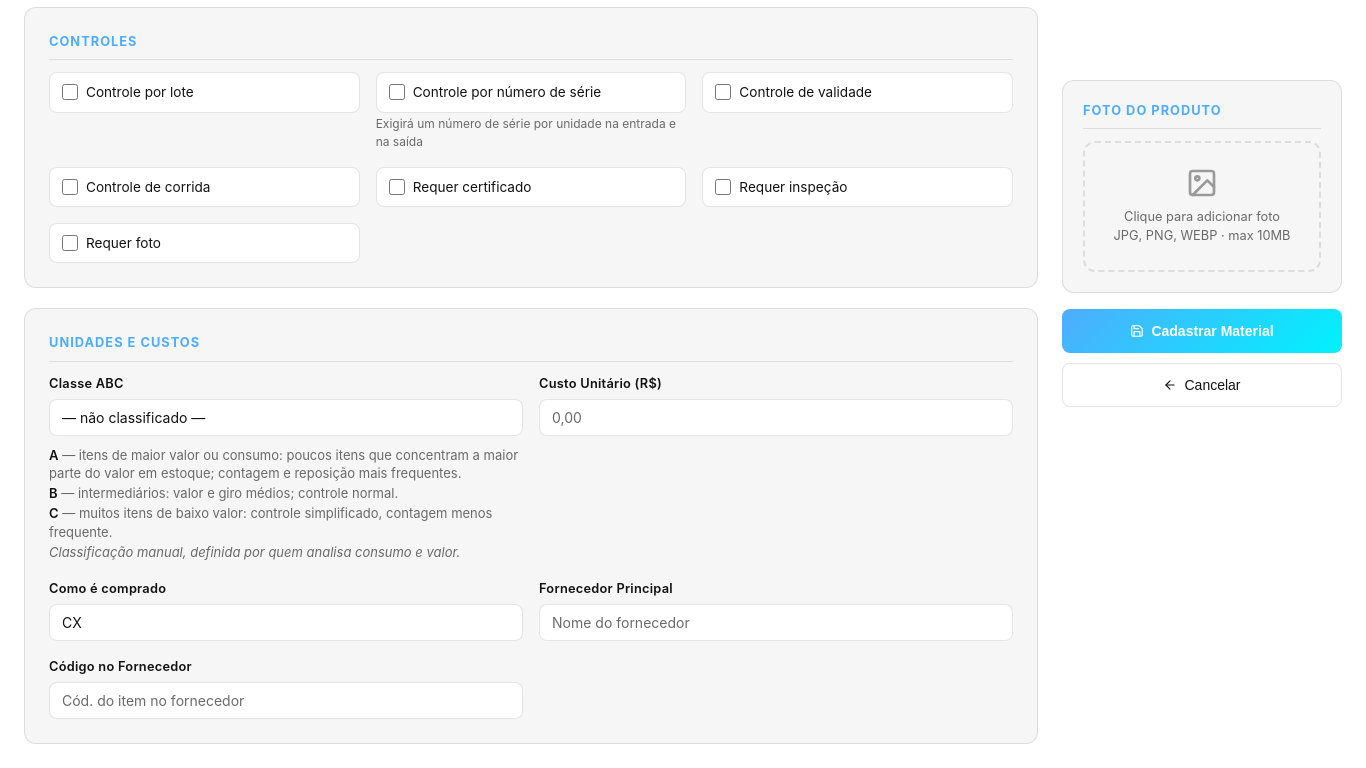
MaterialAlmoxarifadoForm — RN-38: a unidade de compra vira frase, sem "fator" › (a) RN-38.01: nenhum texto da tela diz "fator" ou "conversão", com e sem unidade de compra
Select "CX" in the dropdown below "Como é comprado". click: (286, 623)
box: [49,604,523,641]
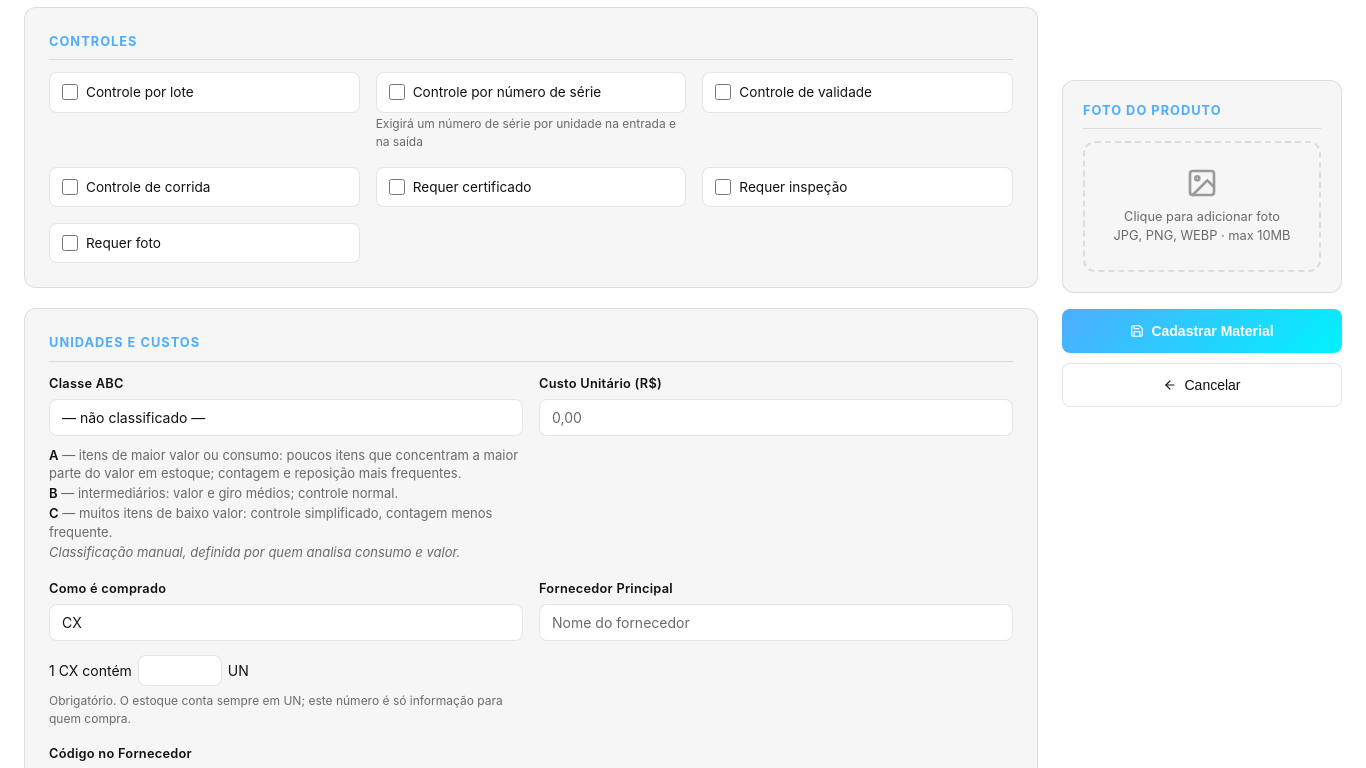
Expected: the text "contém" is shown, [78,662,132,679]
